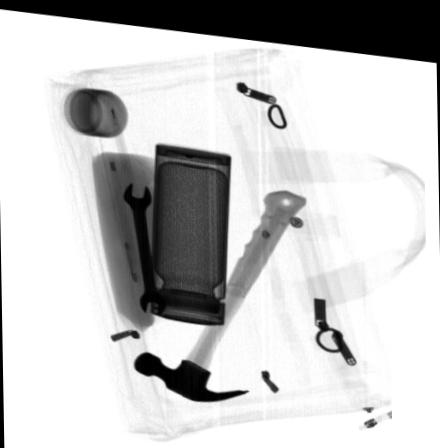Hammer: (132, 179, 307, 395)
Wrench: (122, 176, 167, 311)
